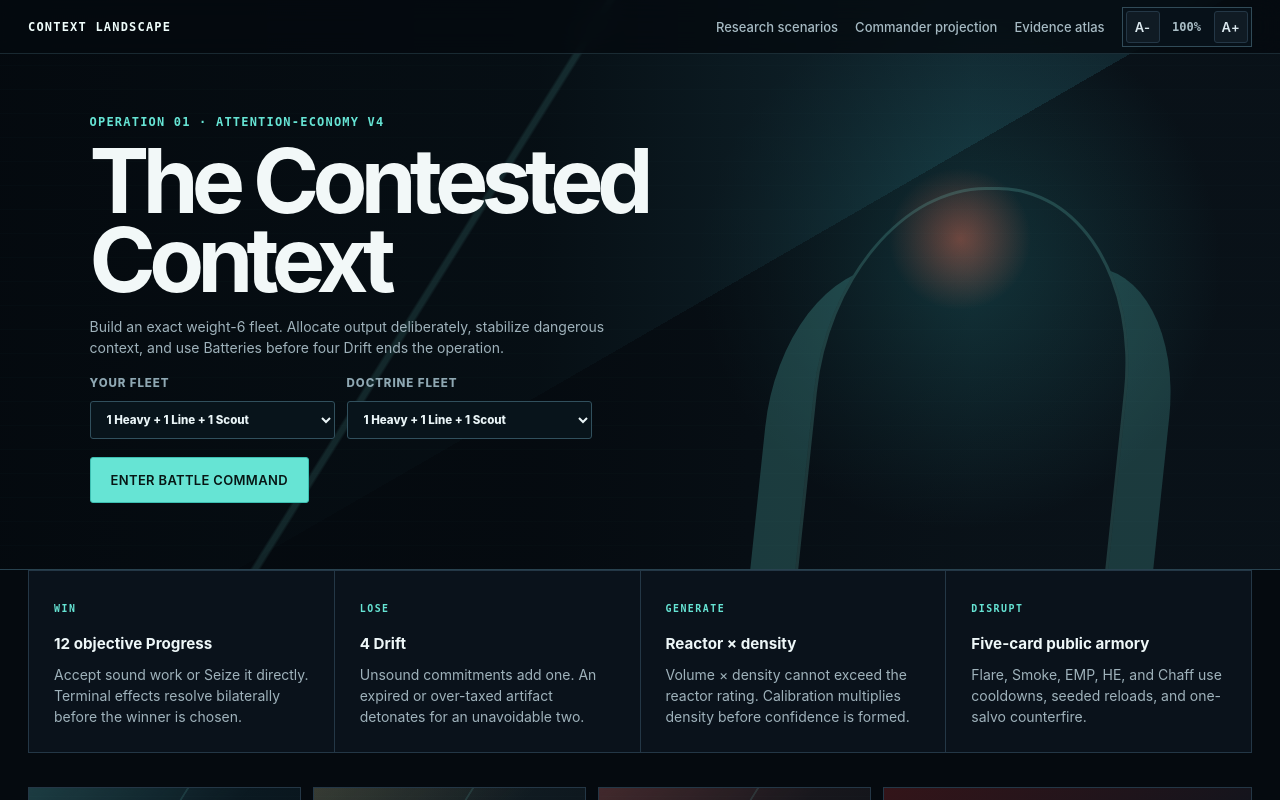
Test: Battle Command v4 accessibility and interaction › holds the next round behind a client-only Resolution recap
What coordinates should you click on to do the following:
click the button "Enter battle command"
I would click on:
 (199, 480)
Its box is [90,457,309,503].
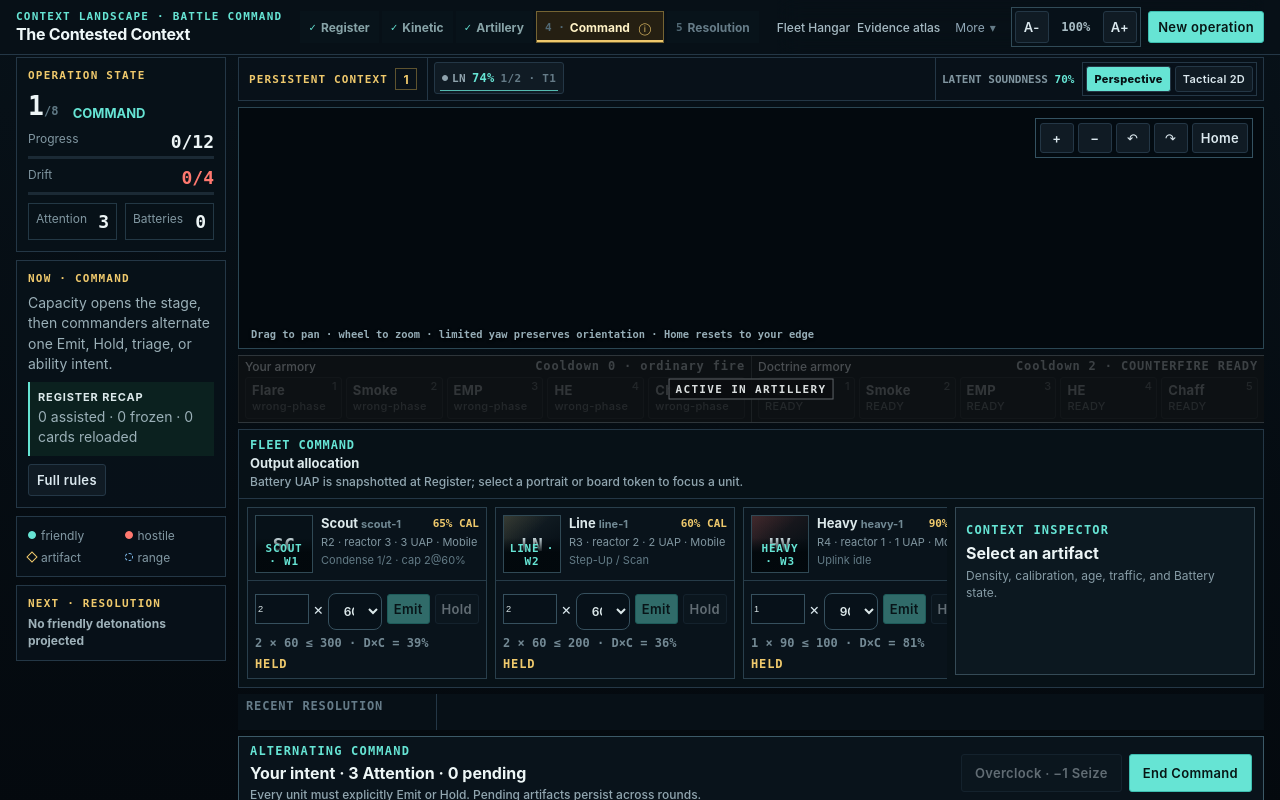
Expected: the element named "Fleet command lane" is shown, [238,429,1264,688]
What coordinates should you click on to do the following:
click the button "End Command"
I would click on:
 (1190, 773)
Its box is [1129,754,1252,792].
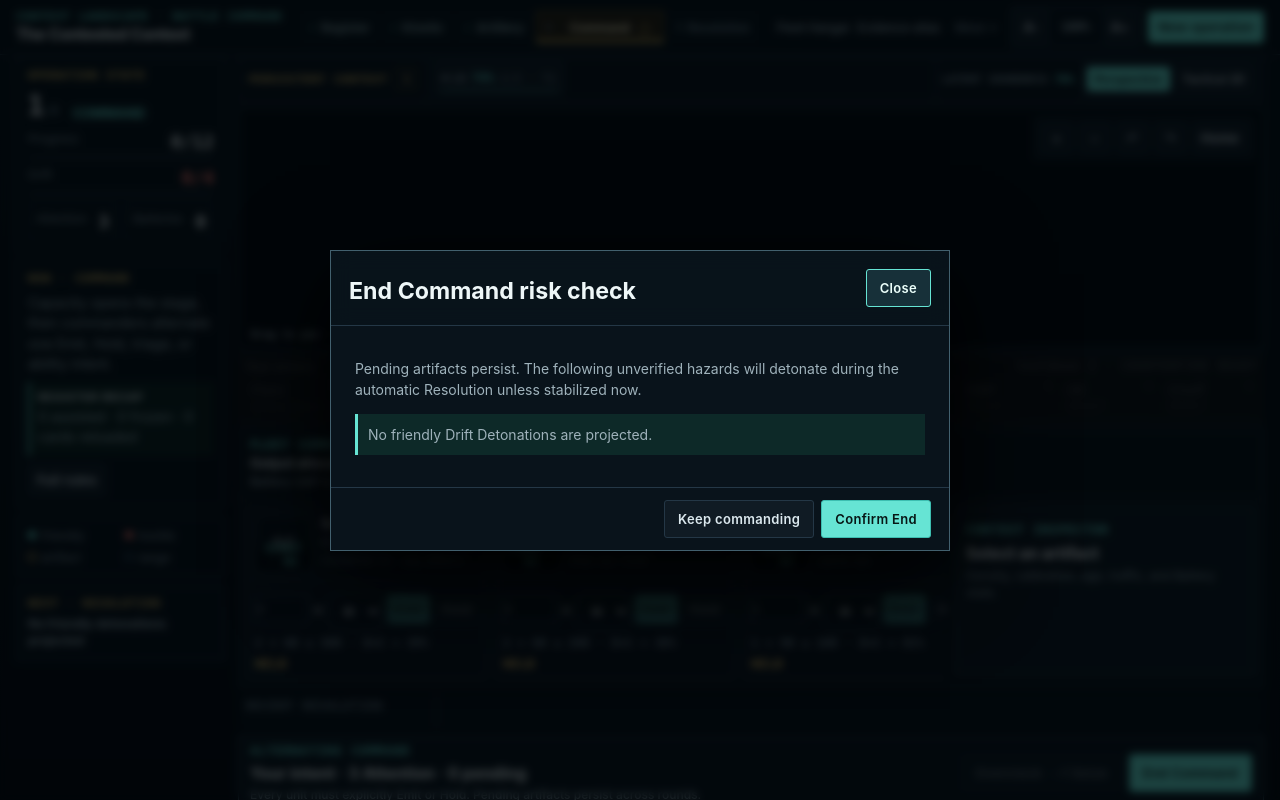
What coordinates should you click on to do the following:
click the button "Confirm End"
I would click on:
 (876, 518)
Its box is [821,500,931,538].
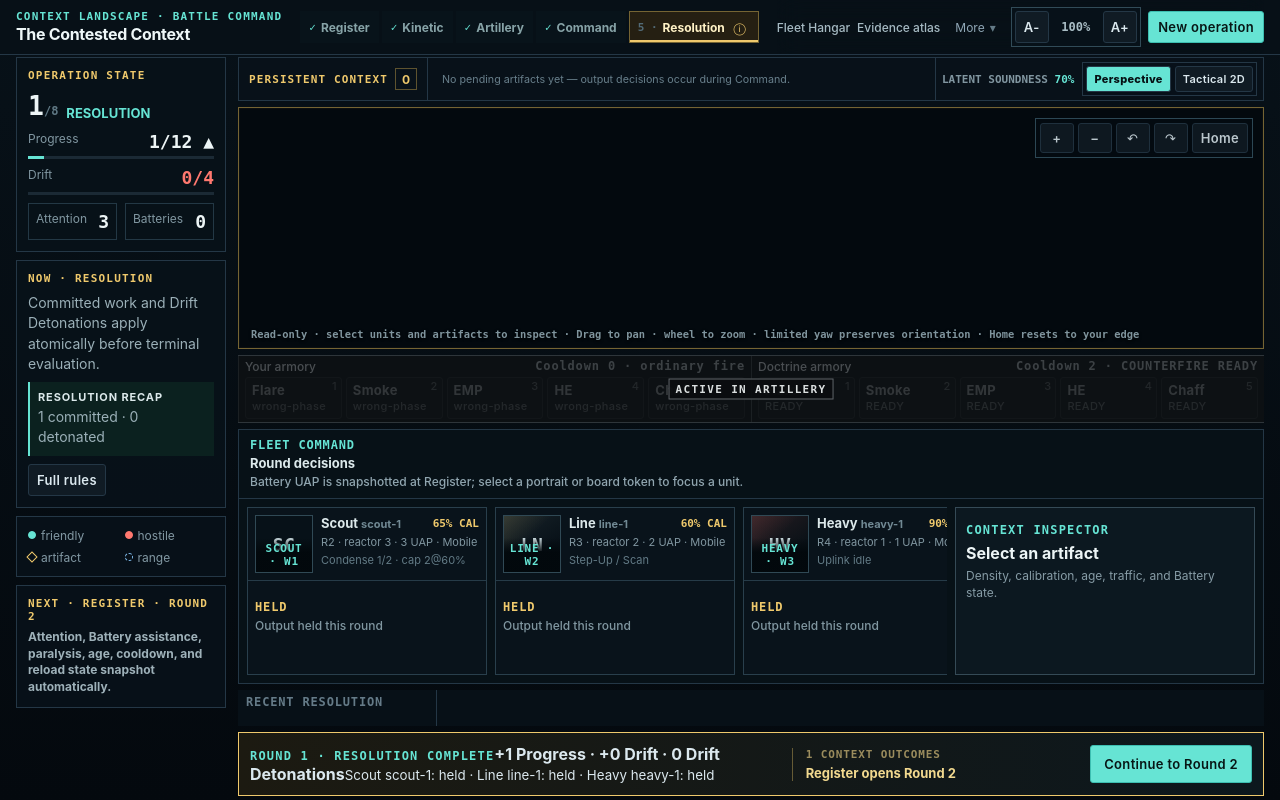
Expected: the list item "5 · Resolution ⓘ" is shown, [629,11,759,43]
Expected: the element named "Phase actions" shows "ROUND 1 · RESOLUTION COMPLETE", [238,732,1264,796]
Expected: the element named "Phase actions" shows "+1 Progress", [238,732,1264,796]
What coordinates should you click on to do the following:
click the button "Continue to Round 2"
I would click on:
 (1171, 764)
Its box is [1090,745,1252,783].
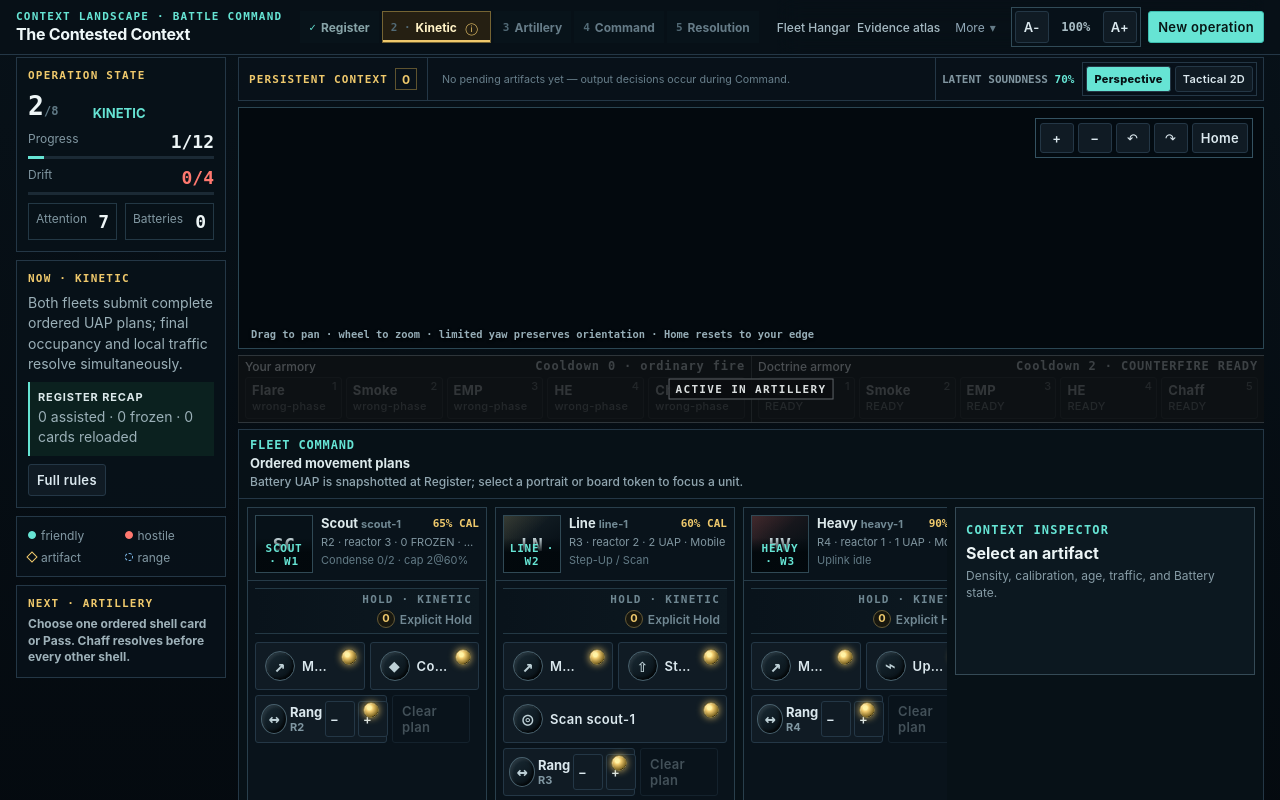
Expected: the list item "2 · Kinetic ⓘ" is shown, [382,11,491,43]
Expected: the text "ROUND 1 · RESOLUTION COMPLETE" is gone
Expected: the element labelled "OPERATION STATE" shows "2/8", [16,57,226,252]
